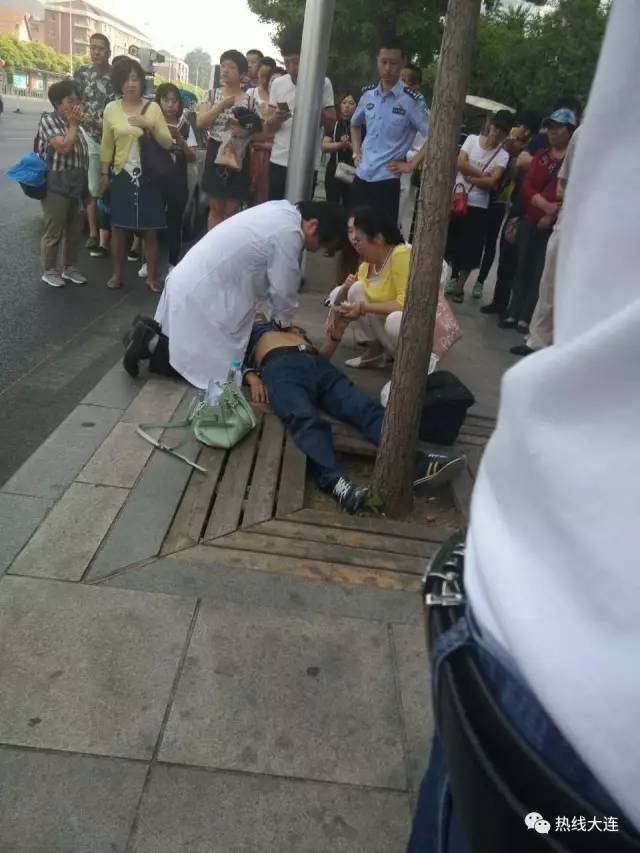falling: (231, 300, 460, 523)
